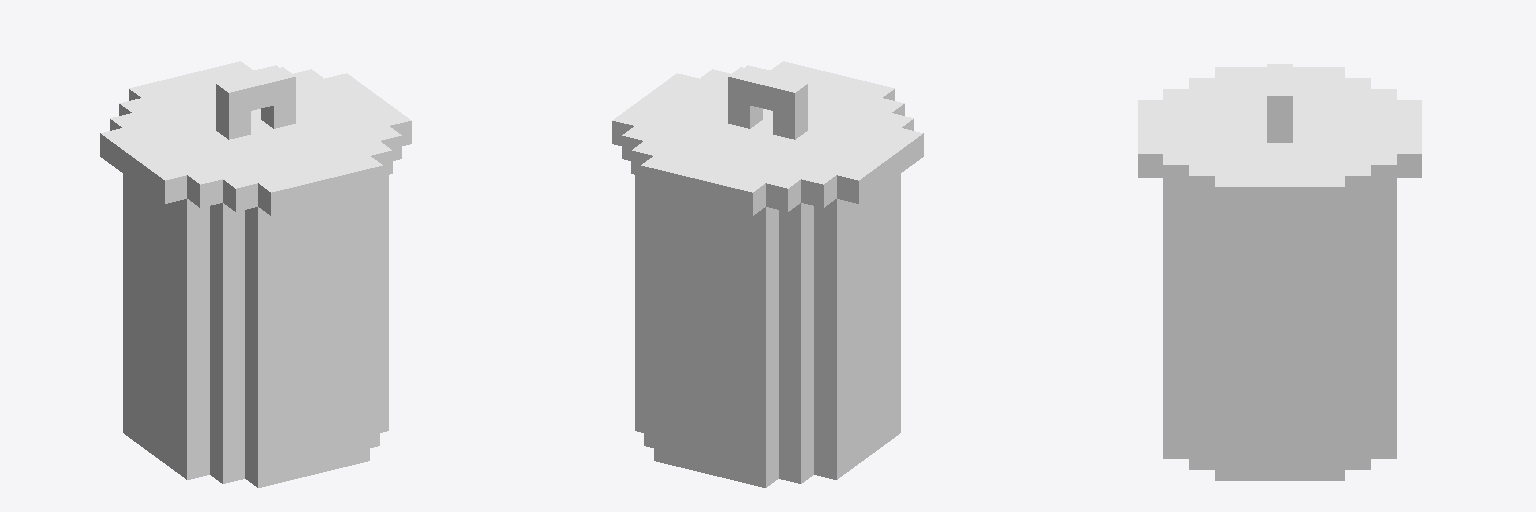
The model's file is TrashCan.obj.
The picture shows the model from 3 angles: view 1: azimuth 30°, elevation 25°; view 2: azimuth 150°, elevation 25°; view 3: azimuth 270°, elevation 25°; orthographic projection.
Parts seen in each view (by area): view 1: TrashCan; view 2: TrashCan; view 3: TrashCan.
Part boxes in pixels (x1,y1,x2,y2): TrashCan: (100, 61, 411, 487); TrashCan: (612, 61, 923, 487); TrashCan: (1138, 64, 1421, 480).
Bounding box in the file's own units: 1.1 × 1.5 × 1.1.